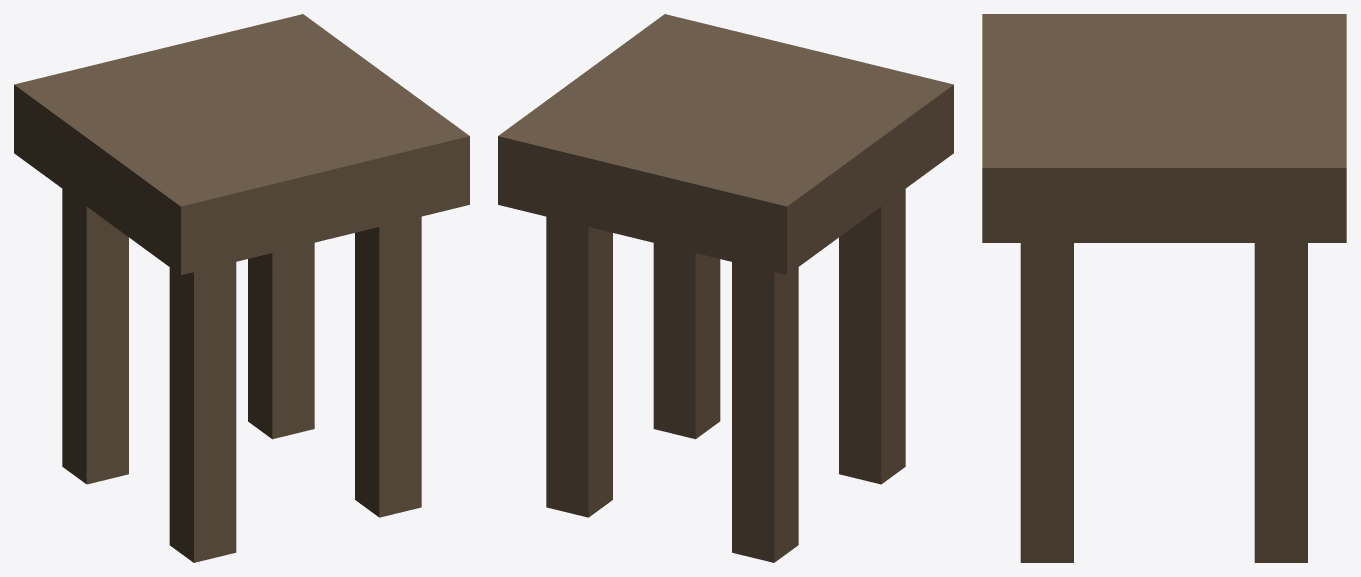
The model's file is SD_Prop_Stool_01.fbx.
3 renders of one model, left to right at view 1: azimuth 30°, elevation 25°; view 2: azimuth 150°, elevation 25°; view 3: azimuth 270°, elevation 25°, orthographic. The views are drawn at different scales.
Parts seen in each view (by area): view 1: SD_Prop_Stool_01; view 2: SD_Prop_Stool_01; view 3: SD_Prop_Stool_01.
Boxes of the visible parts, x1,y1,x2,y2 form: SD_Prop_Stool_01: [14, 14, 469, 562]; SD_Prop_Stool_01: [498, 14, 953, 562]; SD_Prop_Stool_01: [982, 14, 1346, 562].
Bounding box in the file's own units: 0.8188 × 1.02 × 0.8182.
